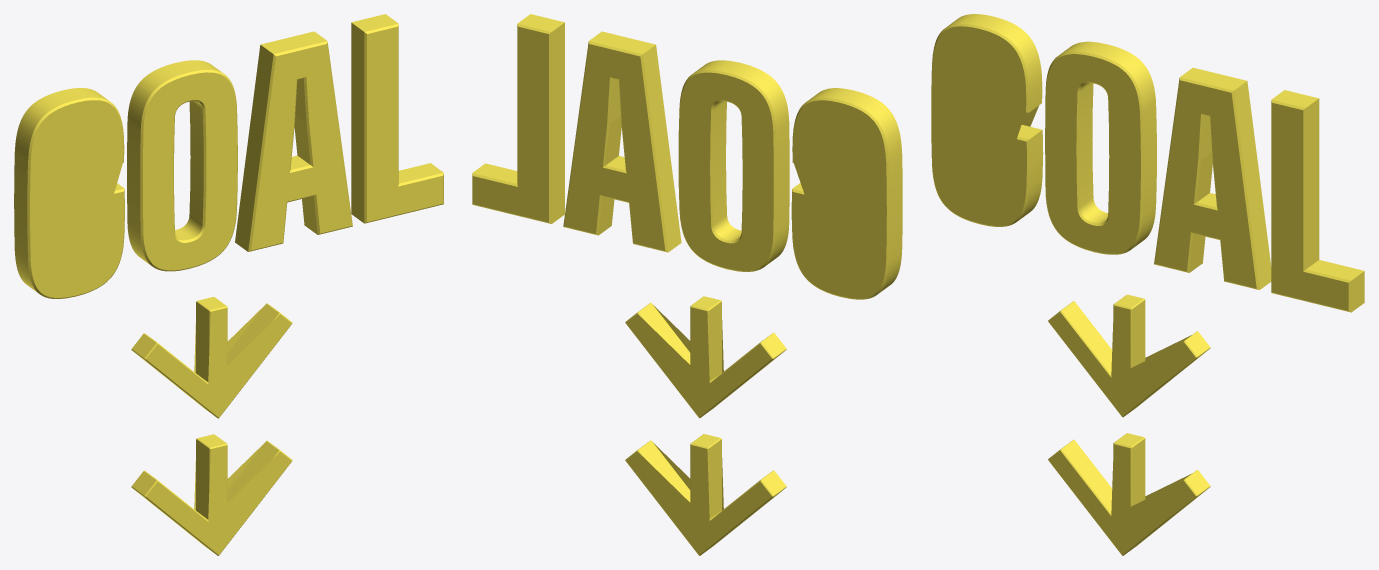
The model's file is end point v1.fbx.
The picture shows the model from 3 angles, left to right: view 1: azimuth 30°, elevation 25°; view 2: azimuth 150°, elevation 25°; view 3: azimuth 330°, elevation 25°; orthographic projection.
Visible parts, largest first — view 1: Text_1, Arrow2, Arrow1; view 2: Text_1, Arrow1, Arrow2; view 3: Text_1, Arrow1, Arrow2.
Part boxes in pixels (x1,y1,x2,y2): Text_1: (14,14,443,298); Arrow2: (131,434,292,555); Arrow1: (131,297,292,418); Text_1: (472,14,902,299); Arrow1: (625,296,786,418); Arrow2: (625,434,786,555); Text_1: (931,14,1364,312); Arrow1: (1048,294,1210,417); Arrow2: (1048,433,1210,555).
Size of the model in its own units: 364 by 409 by 23.31.
